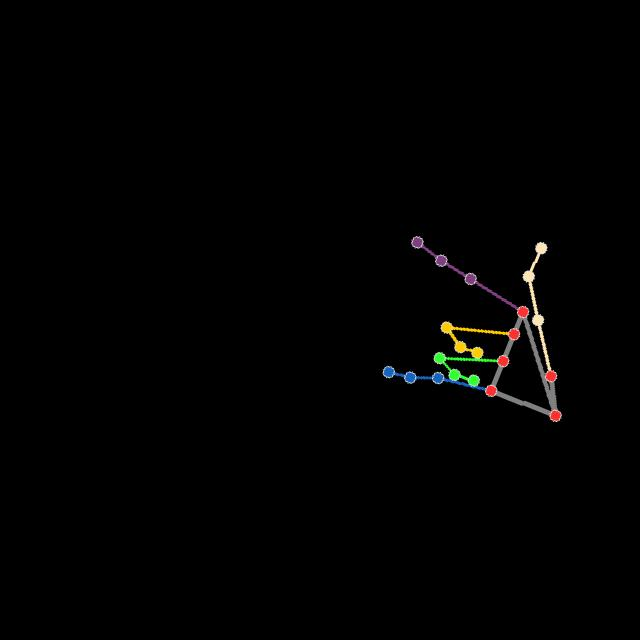spiderman: (380, 228, 565, 426)
